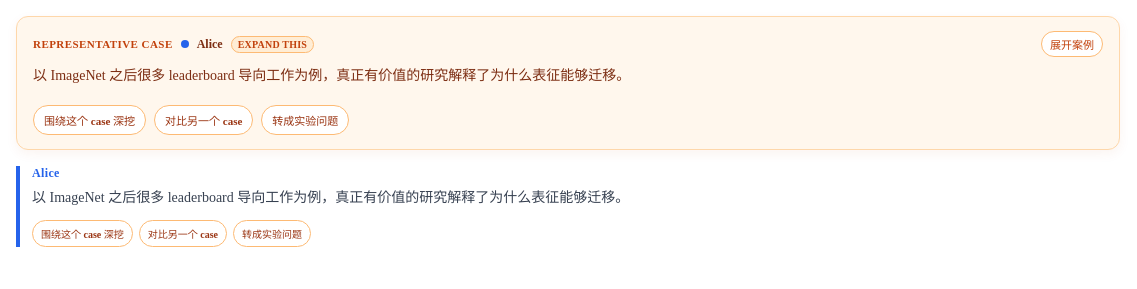
Test: ChatStream › renders a representative case card when available
The image size is (1137, 289).
Expected: the text "Representative Case" is shown, [33,38,173,50]
Expected: the text "Alice" next to "Expand This" is shown, [197,36,223,50]
Click the button "展开案例".
click(1072, 44)  # box [1041,31,1103,57]
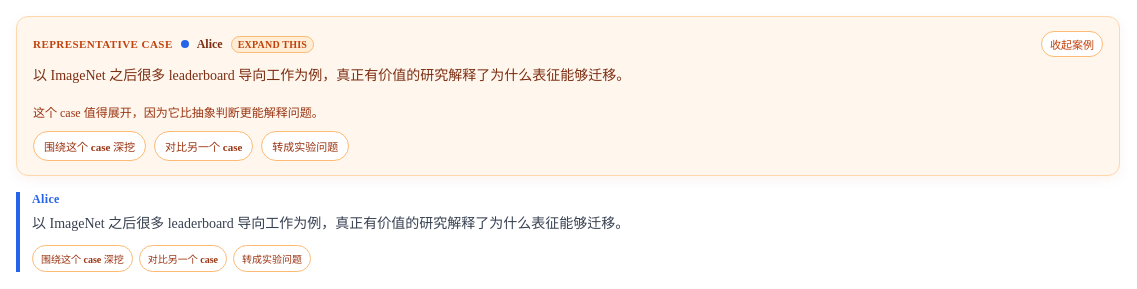
Result: the button "收起案例" is shown at [1041,31,1103,57]
Result: the text "这个 case 值得展开，因为它比抽象判断更能解释问题。" is shown at [33,106,324,120]
